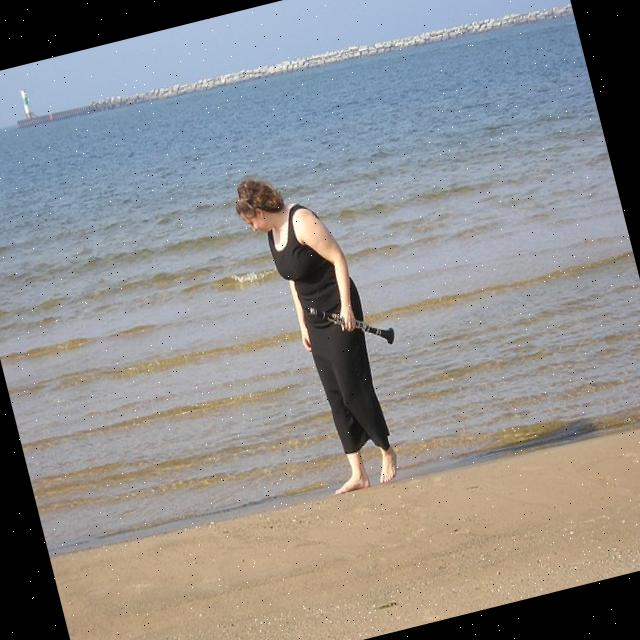clarinet: (300, 282, 402, 368)
